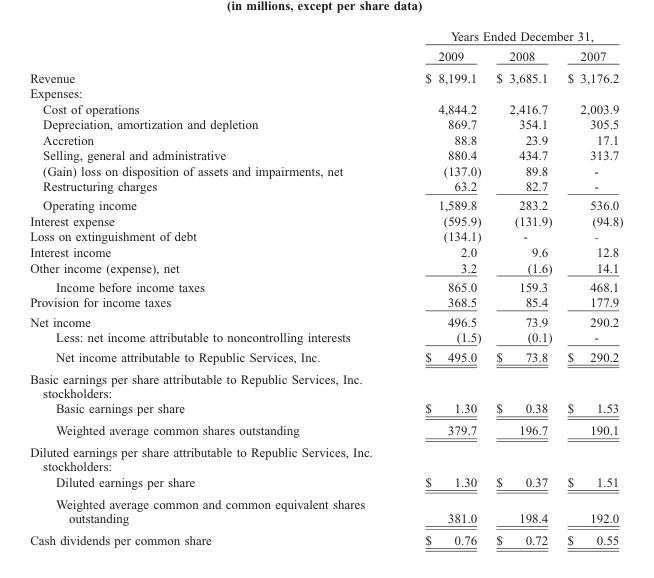table: (29, 28, 622, 546)
table column: (29, 28, 394, 546), (394, 28, 488, 546), (488, 28, 559, 546), (559, 28, 622, 546)
table column header: (29, 28, 622, 66)
table projected row header: (29, 367, 622, 400), (29, 441, 622, 473), (29, 85, 622, 100)
table row: (29, 492, 622, 528), (29, 367, 622, 400), (29, 441, 622, 473), (29, 419, 622, 441), (29, 45, 622, 66), (29, 346, 622, 367), (29, 66, 622, 85), (29, 400, 622, 419), (29, 473, 622, 492), (29, 276, 622, 294), (29, 311, 622, 329), (29, 528, 622, 546), (29, 28, 622, 45), (29, 178, 622, 195), (29, 195, 622, 212), (29, 259, 622, 276), (29, 294, 622, 311), (29, 329, 622, 346), (29, 100, 622, 116), (29, 131, 622, 147), (29, 162, 622, 178), (29, 212, 622, 228), (29, 243, 622, 259), (29, 85, 622, 100), (29, 116, 622, 131), (29, 147, 622, 162), (29, 228, 622, 243)
table spanning cell: (394, 28, 622, 45)
